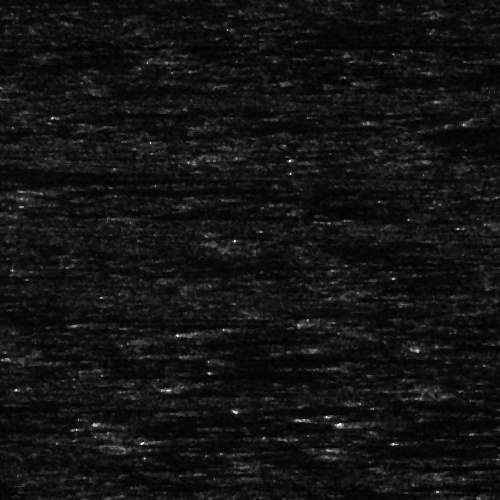object: (297, 414, 454, 429), (236, 403, 289, 410), (166, 327, 239, 332), (285, 445, 358, 450), (100, 437, 131, 448), (78, 213, 131, 218), (35, 185, 88, 190), (296, 498, 337, 500)
shadow: (0, 308, 187, 323), (115, 437, 336, 448), (376, 414, 500, 429), (321, 445, 500, 450), (105, 213, 262, 218), (203, 327, 357, 332), (263, 403, 339, 410), (62, 185, 140, 190), (316, 498, 500, 500)
